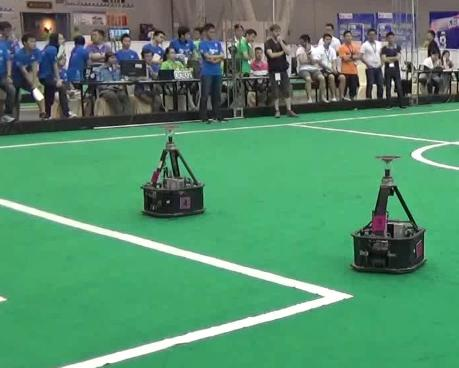robot: (350, 145, 431, 277), (133, 118, 209, 218)
